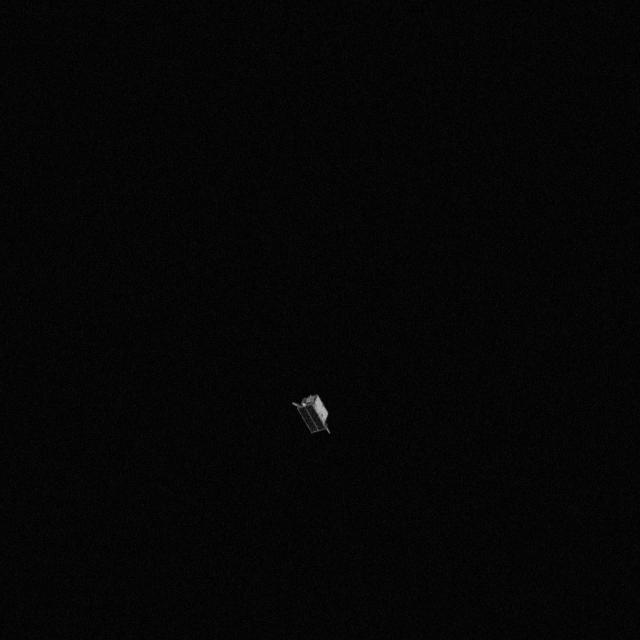satellite: (292, 388, 336, 444)
